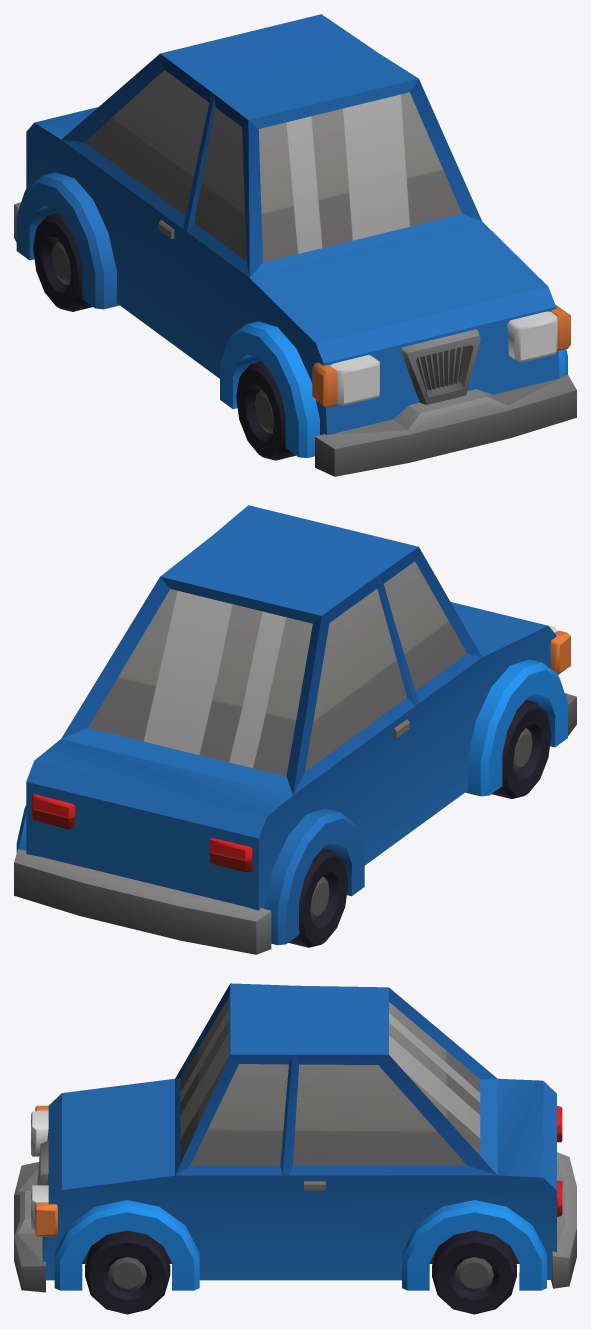
Rendered from Car_4_2.glb.
3 views of the same model, one above another, from view 1: azimuth 30°, elevation 25°; view 2: azimuth 150°, elevation 25°; view 3: azimuth 270°, elevation 25° (orthographic). The views are drawn at different scales.
Visible parts, largest first — view 1: Car_4_2, BWhel_FR, BWhel_BR; view 2: Car_4_2, BWhel_BR, BWhel_FR; view 3: Car_4_2, BWhel_FL, BWhel_BL.
Part boxes in pixels (bbox=[...]): Car_4_2: bbox=[14, 14, 576, 476]; BWhel_FR: bbox=[236, 361, 295, 460]; BWhel_BR: bbox=[33, 212, 92, 311]; Car_4_2: bbox=[14, 505, 576, 954]; BWhel_BR: bbox=[288, 848, 348, 947]; BWhel_FR: bbox=[491, 700, 551, 798]; Car_4_2: bbox=[14, 983, 576, 1292]; BWhel_FL: bbox=[85, 1230, 170, 1314]; BWhel_BL: bbox=[432, 1230, 516, 1314].
Size of the model in its own units: 1.09 by 1.09 by 2.3.
6 materials, 6 textured.
